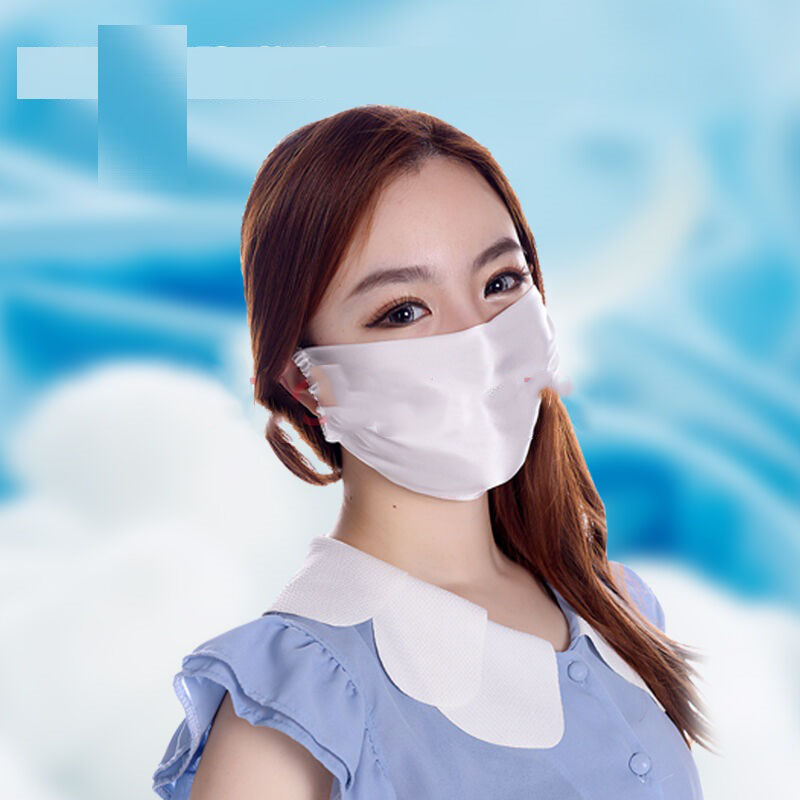face_mask: (313, 159, 553, 476)
